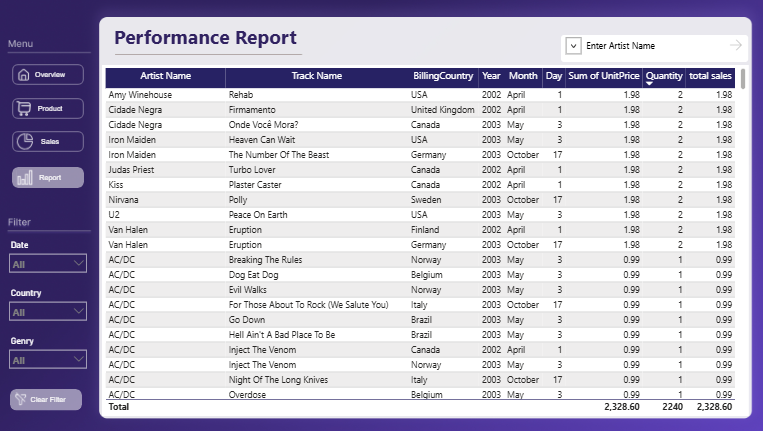

The page's visual inventory and layout, read from the dashboard file:
{"tool":"powerbi","page":{"name":"Report","canvas":[1280,720],"ordinal":3},"visuals":[{"type":"actionButton","box":[20,277.5,120,35],"z":0},{"type":"actionButton","box":[20,106.2,120,35],"z":1000},{"type":"actionButton","box":[20,162.5,120,35],"z":2000},{"type":"actionButton","box":[20,218.8,120,35],"z":3000},{"type":"actionButton","box":[17.1,648.6,120,35.7],"z":4000},{"type":"textbox","box":[184.3,32.9,358.6,65.7],"z":5000},{"type":"slicer","fields":{"Values":["employee.HireDate"]},"box":[223.5,274.7,152.9,75.9],"z":6000},{"type":"slicer","fields":{"Values":["genre.Name"]},"box":[264.1,541.2,160,62.9],"z":7000},{"type":"slicer","fields":{"Values":["artist.Name"]},"box":[245.3,361.2,150,68.2],"z":8000},{"type":"slicer","fields":{"Values":["mediatype.MediaTypeId"]},"box":[202.4,587.6,161.2,57.1],"z":9000},{"type":"tableEx","title":"Transaction Report","fields":{"Values":["artist.Name","track.Name","invoice.BillingCountry","employee.HireDate.Variation.Date Hierarchy.Year","employee.HireDate.Variation.Date Hierarchy.Month","employee.HireDate.Variation.Date Hierarchy.Day","Sum(invoiceline.UnitPrice)","Dax Measures.Quantity","Dax Measures.total sales"]},"box":[170,108.3,1078.3,585],"z":10000},{"type":"slicer","fields":{"Values":["employee.HireDate.Variation.Date Hierarchy.Year","employee.HireDate.Variation.Date Hierarchy.Month","employee.HireDate.Variation.Date Hierarchy.Day"]},"box":[5,395,150,66.7],"z":11000},{"type":"slicer","fields":{"Values":["invoice.BillingCountry"]},"box":[5.7,475.7,150,67.1],"z":12000},{"type":"slicer","fields":{"Values":["genre.Name"]},"box":[5.7,555.7,150,62.9],"z":13000},{"type":"textSlicer","fields":{"Values":["artist.Artist Name"]},"box":[930,53.3,321.7,55],"z":15000}]}

Visuals, with their boxes on the page's 1280x720 design canvas (x1, y1, x2, y2). These are canvas units, not pixel positions in the 763x431 screenshot, which may show the page scaled, cropped or inside an application window:
actionButton: 20,278,140,312
actionButton: 20,106,140,141
actionButton: 20,162,140,198
actionButton: 20,219,140,254
actionButton: 17,649,137,684
textbox: 184,33,543,99
slicer - employee.HireDate: 224,275,376,351
slicer - genre.Name: 264,541,424,604
slicer - artist.Name: 245,361,395,429
slicer - mediatype.MediaTypeId: 202,588,364,645
"Transaction Report" tableEx: 170,108,1248,693
slicer - employee.HireDate.Variation.Date Hierarchy.Year x employee.HireDate.Variation.Date Hierarchy.Month: 5,395,155,462
slicer - invoice.BillingCountry: 6,476,156,543
slicer - genre.Name: 6,556,156,619
textSlicer - artist.Artist Name: 930,53,1252,108
